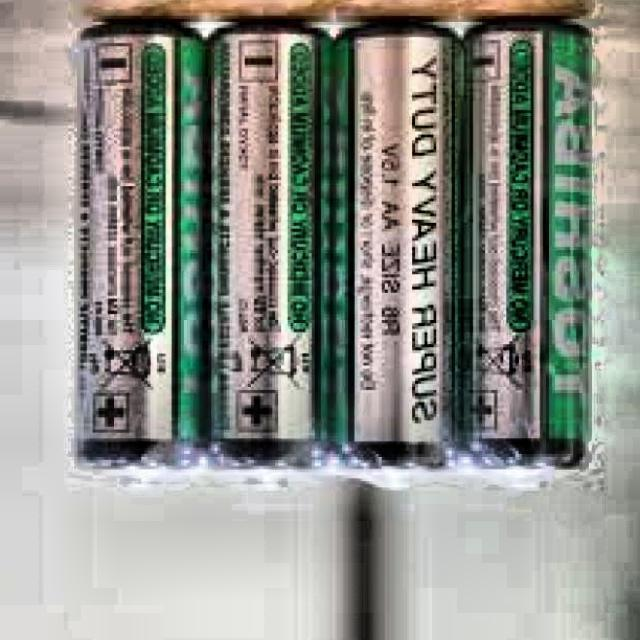battery: (453, 22, 593, 487), (77, 25, 210, 489), (328, 31, 457, 487), (202, 21, 323, 489)
